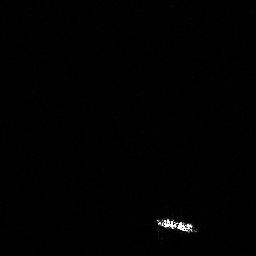ship: (153, 212, 201, 238)
